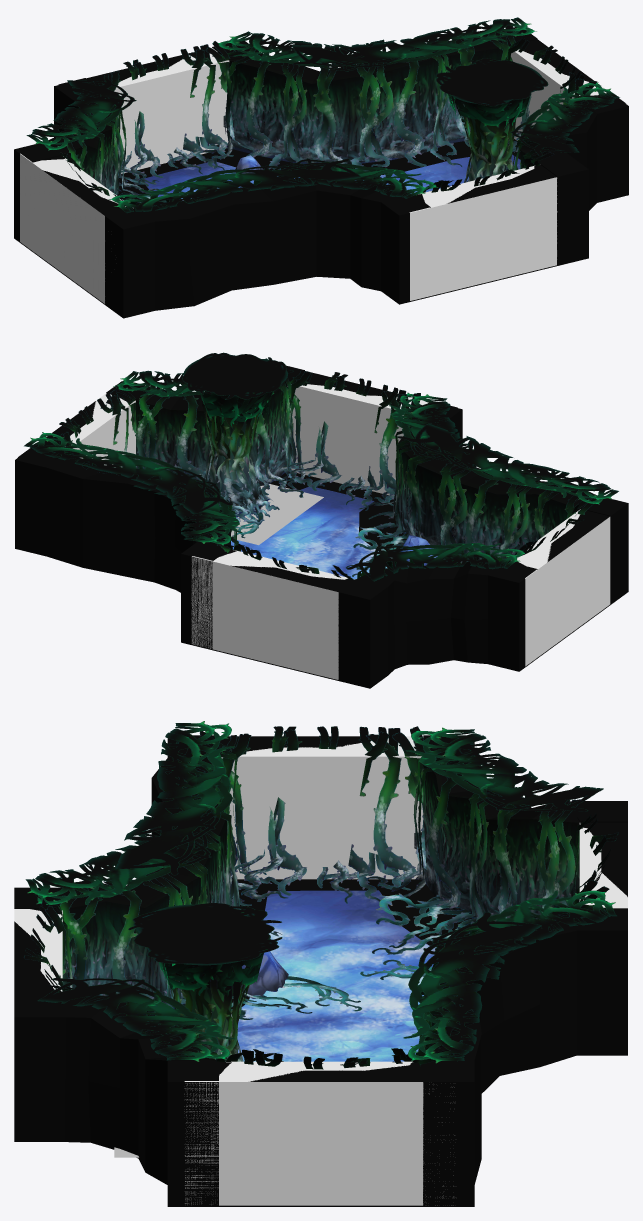
The model's file is Dungeon_012_RoadX_001.fbx.
3 renders of one model, top to bottom at view 1: azimuth 30°, elevation 25°; view 2: azimuth 150°, elevation 25°; view 3: azimuth 270°, elevation 25°, orthographic. The views are drawn at different scales.
Parts seen in each view (by area): view 1: Dan1, DoorWay_NavMask (1) (×2), Dungeon_021_Tsuta_003, Dungeon_021_Tsuta_002, DoorWay_NavMask (×4), un_021_Door_002 (×4), un_021_Door_002_Object1 (×3), Dungeon_021_Object_010, Dungeon_021_Object_011, Dan002_02, Dan1_shadow, Dun_011_Door_002_shadow; view 2: Dan1, DoorWay_NavMask (1) (×2), Dungeon_021_Tsuta_003, DoorWay_NavMask (×4), Dungeon_021_Tsuta_002, un_021_Door_002_Object1 (×3), Dan002_02, un_021_Door_002 (×4), Dungeon_021_Object_010, Dungeon_021_Object_011, Dangeonpats_001_shadow_002, Dan1_shadow (+2 smaller); view 3: Dan1, Dungeon_021_Tsuta_003, DoorWay_NavMask (1) (×2), Dan002_02, DoorWay_NavMask (×4), Dungeon_021_Tsuta_002, un_021_Door_002_Object1 (×4), un_021_Door_002 (×4), Dungeon_021_Object_010, Dungeon_021_Tsuta_001, Dungeon_021_Object_011, Dan1_shadow (+2 smaller).
Boxes of the visible parts, bbox=[...] form: Dan1: bbox=[14, 27, 628, 318]; DoorWay_NavMask (1) (×2): bbox=[20, 153, 557, 303]; Dungeon_021_Tsuta_003: bbox=[26, 17, 619, 213]; Dungeon_021_Tsuta_002: bbox=[65, 25, 583, 205]; DoorWay_NavMask (×4): bbox=[33, 48, 606, 208]; un_021_Door_002 (×4): bbox=[17, 29, 625, 304]; un_021_Door_002_Object1 (×3): bbox=[102, 37, 597, 192]; Dungeon_021_Object_010: bbox=[435, 58, 548, 128]; Dungeon_021_Object_011: bbox=[461, 99, 515, 182]; Dan002_02: bbox=[144, 154, 520, 200]; Dan1_shadow: bbox=[117, 141, 471, 205]; Dun_011_Door_002_shadow: bbox=[119, 148, 228, 182]; Dan1: bbox=[15, 381, 628, 688]; DoorWay_NavMask (1) (×2): bbox=[191, 517, 610, 679]; Dungeon_021_Tsuta_003: bbox=[24, 358, 618, 581]; DoorWay_NavMask (×4): bbox=[71, 384, 580, 579]; Dungeon_021_Tsuta_002: bbox=[65, 377, 597, 578]; un_021_Door_002_Object1 (×3): bbox=[57, 370, 420, 579]; Dan002_02: bbox=[231, 487, 387, 579]; un_021_Door_002 (×4): bbox=[18, 365, 625, 680]; Dungeon_021_Object_010: bbox=[182, 352, 287, 427]; Dungeon_021_Object_011: bbox=[202, 391, 279, 524]; Dangeonpats_001_shadow_002: bbox=[231, 484, 323, 545]; Dan1_shadow: bbox=[270, 472, 443, 559]; Dan1: bbox=[14, 738, 627, 1206]; Dungeon_021_Tsuta_003: bbox=[25, 721, 616, 1063]; DoorWay_NavMask (1) (×2): bbox=[14, 909, 454, 1205]; Dan002_02: bbox=[231, 890, 436, 1061]; DoorWay_NavMask (×4): bbox=[41, 736, 627, 1081]; Dungeon_021_Tsuta_002: bbox=[48, 731, 594, 1066]; un_021_Door_002_Object1 (×4): bbox=[24, 726, 618, 1069]; un_021_Door_002 (×4): bbox=[14, 735, 627, 1206]; Dungeon_021_Object_010: bbox=[128, 903, 282, 996]; Dungeon_021_Tsuta_001: bbox=[169, 893, 476, 1019]; Dungeon_021_Object_011: bbox=[168, 963, 253, 1061]; Dan1_shadow: bbox=[174, 882, 471, 1025].
Size of what is drawn, in the model's own units: 12.14 by 3.03 by 9.02.
